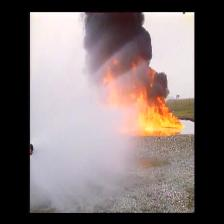fire: (139, 104, 175, 128)
smoke: (89, 14, 135, 57)
